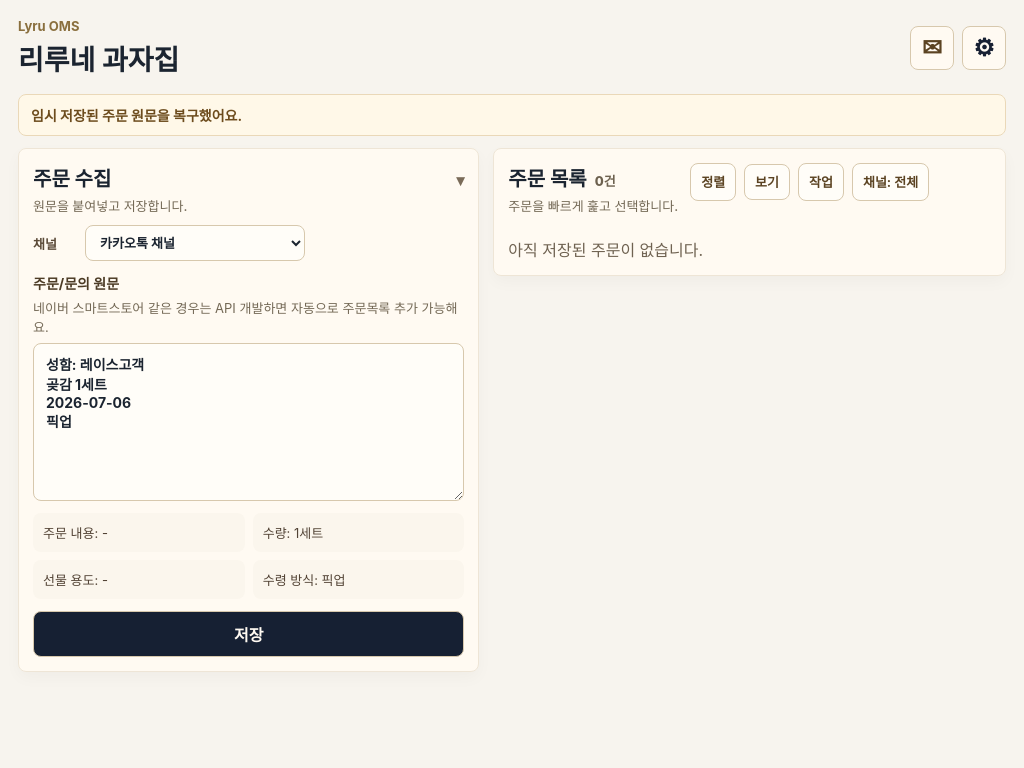
Test: App › clears local draft and recent-order cache on ready workspace logout
Expected: the heading "리루네 과자집" is shown, [18,38,179,78]
Step 1. Click the button named "메뉴" → {"x": 984, "y": 48}, box [962,26,1006,70]
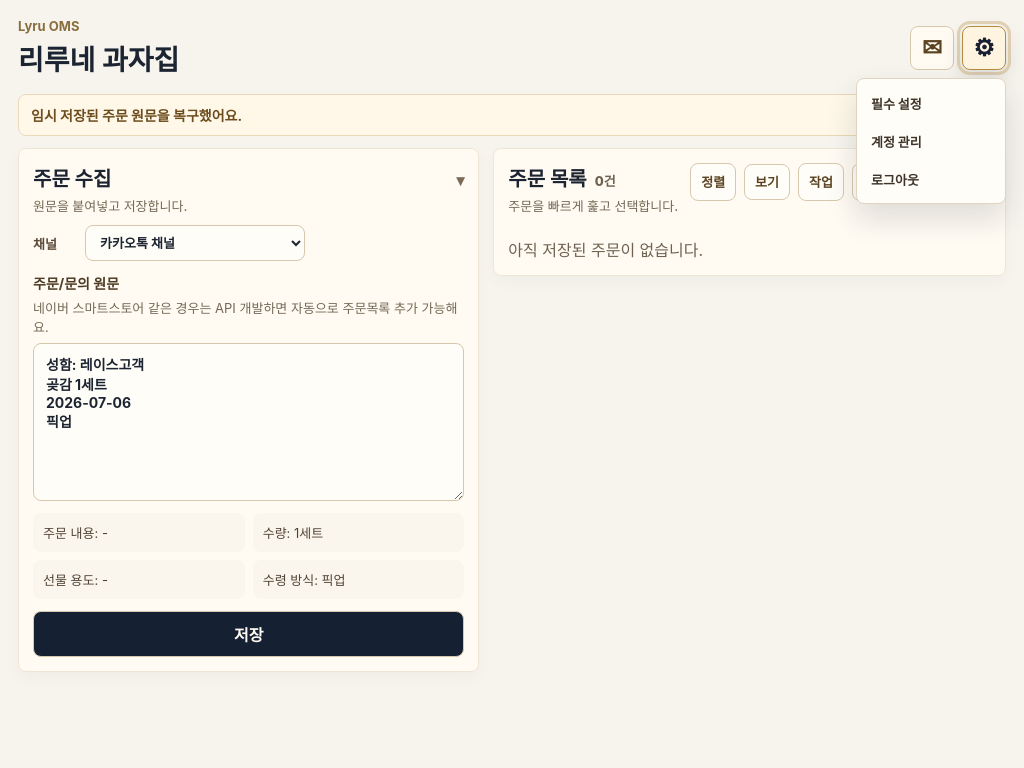
Step 2. Click the menu item "로그아웃" → {"x": 931, "y": 179}, box [863,161,999,197]
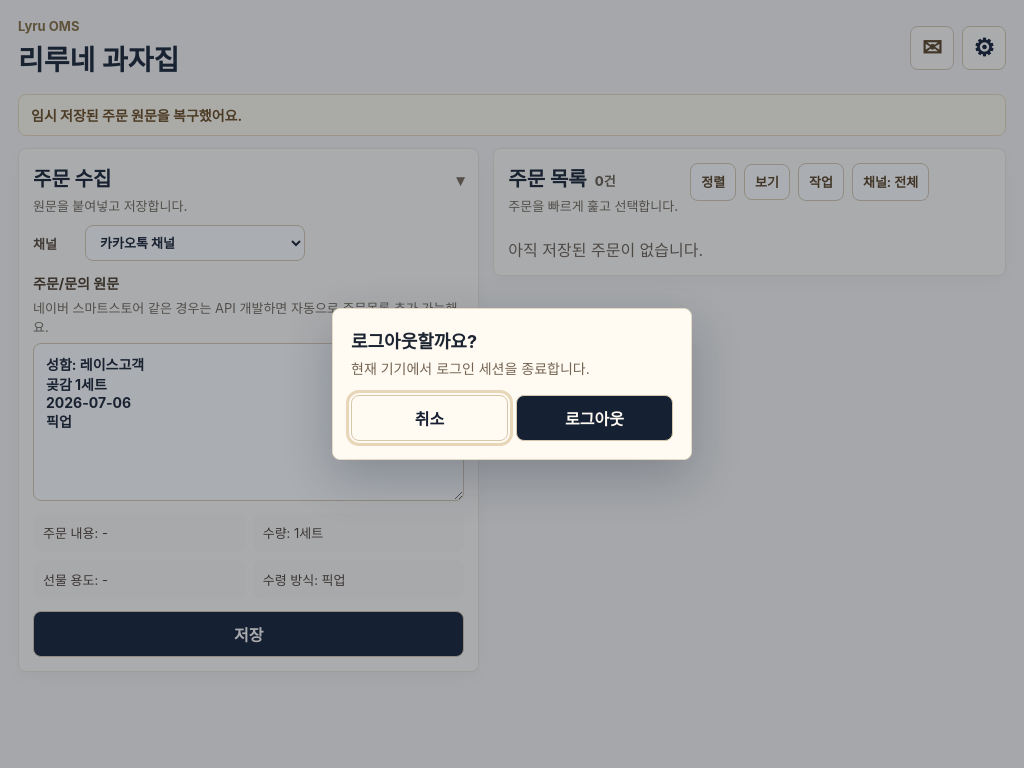
Step 3. Click the button "로그아웃" → {"x": 594, "y": 418}, box [516,395,673,441]
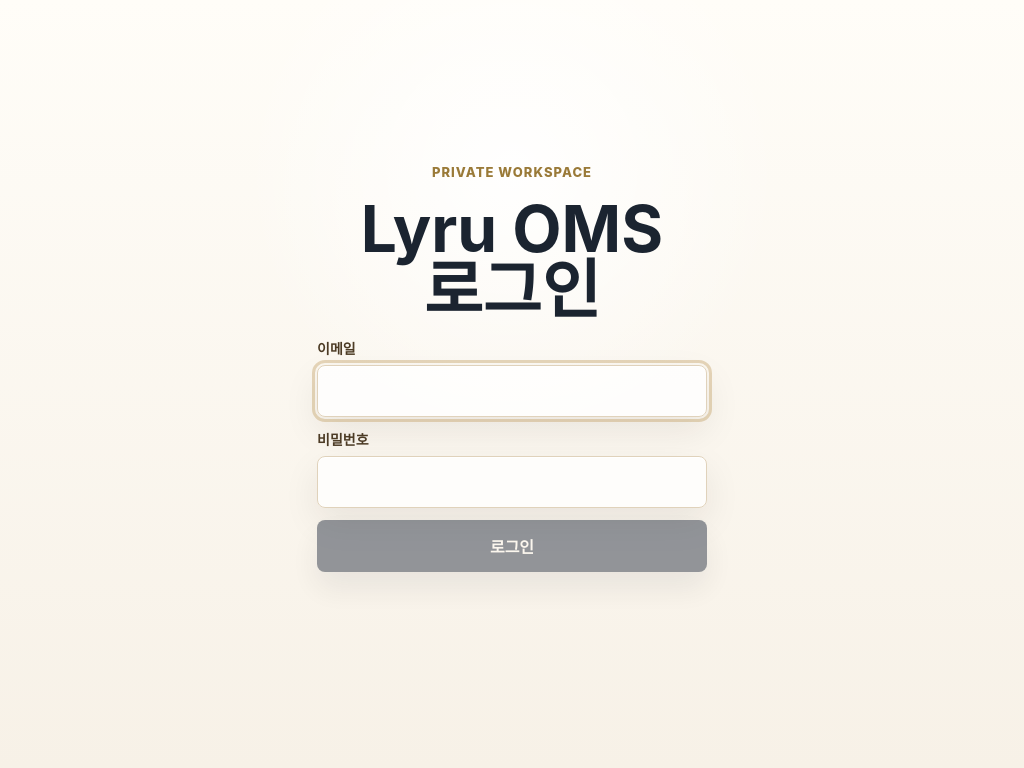
Now the heading "Lyru OMS 로그인" is shown, box [361,190,663,328]
